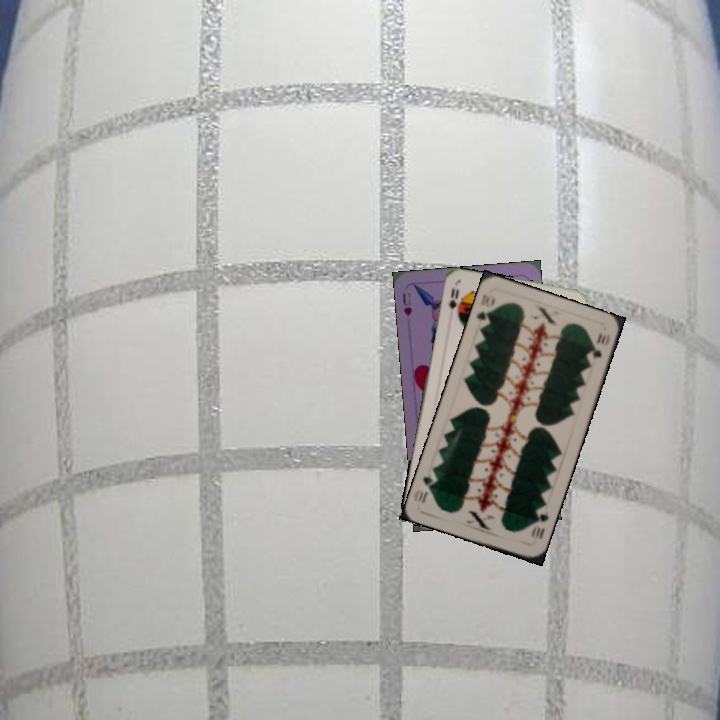G10: (472, 290, 498, 329), (527, 504, 551, 542)
HU: (398, 289, 414, 319)
SO: (445, 283, 461, 312)
